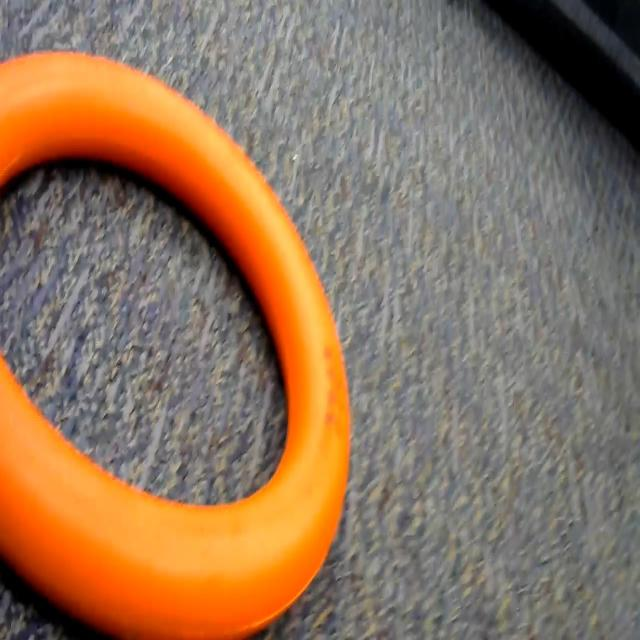note: (0, 31, 366, 640)
